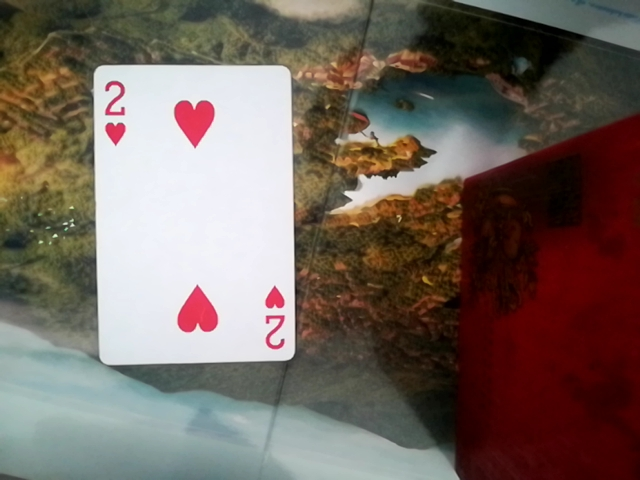hx 2: (90, 63, 300, 362)
